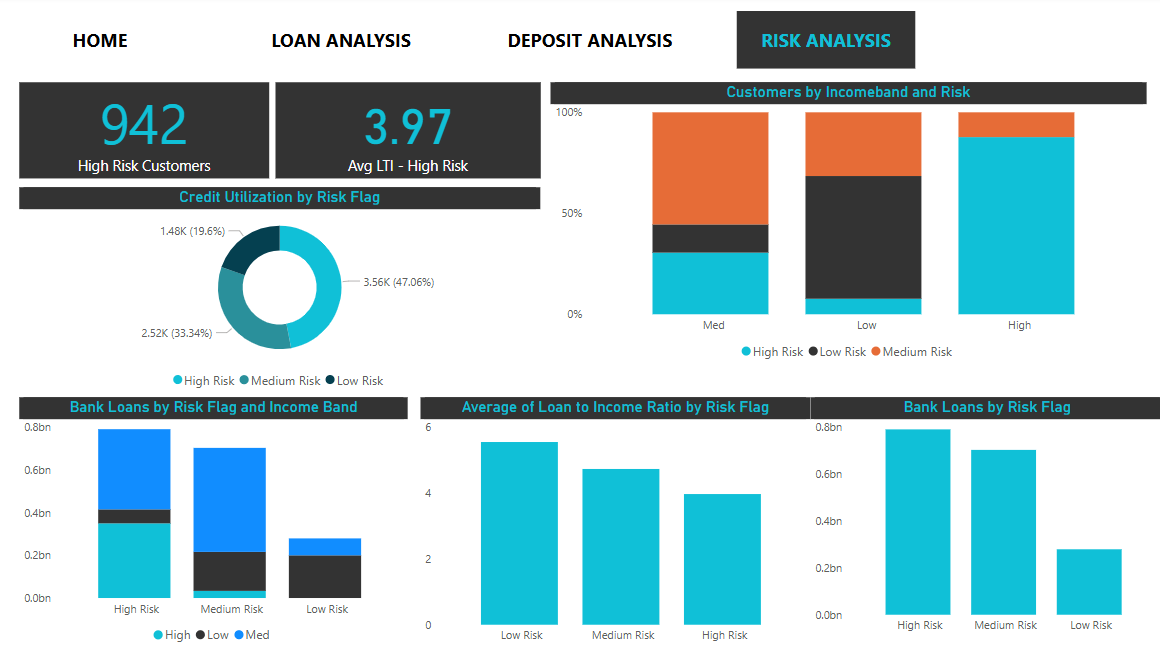

The dashboard page shown, as its layout file describes it:
{"tool":"powerbi","page":{"name":"Risk Analysis","canvas":[1280,720],"ordinal":3},"visuals":[{"type":"actionButton","title":"HOME","box":[551.6,16.5,196.2,63.1],"z":0,"group":"g1"},{"type":"columnChart","title":"Bank Loans by Risk Flag","fields":{"Category":["Clients - Banking.Risk Flag"],"Y":["Sum(Clients - Banking.Bank Loans)"]},"box":[891.9,440.5,388.3,269],"z":0},{"type":"actionButton","title":"HOME","box":[811,16.5,196.2,63.1],"z":1000,"group":"g1"},{"type":"donutChart","title":"Credit Utilization by Risk Flag","fields":{"Category":["Clients - Banking.Risk Flag"],"Y":["Avg(Clients - Banking.Credit Utilization)"]},"box":[23.3,209.9,572.2,230.5],"z":1000},{"type":"actionButton","title":"HOME","box":[13.7,16.5,196.2,63.1],"z":2000,"group":"g1"},{"type":"clusteredColumnChart","fields":{"Category":["Clients - Banking.Risk Flag"],"Y":["Avg(Clients - Banking.Loan to Income Ratio)"]},"box":[463.8,440.5,428.1,279.9],"z":2000},{"type":"actionButton","title":"HOME","box":[278.5,16.5,196.2,63.1],"z":3000,"group":"g1"},{"type":"card","title":"High Risk Customers","fields":{"Values":["Measure Table.High Risk Customers"]},"box":[23.3,94.7,274.4,105.7],"z":3000},{"type":"card","fields":{"Values":["Measure Table.Avg LTI - High Risk"]},"box":[304.6,94.7,290.9,105.7],"z":4000},{"type":"columnChart","title":"Bank Loans by Risk Flag and Income Band","fields":{"Category":["Clients - Banking.Risk Flag"],"Y":["Sum(Clients - Banking.Bank Loans)"],"Series":["Clients - Banking.Income Band"]},"box":[23.3,440.5,426.8,279.9],"z":5000},{"type":"hundredPercentStackedColumnChart","title":"Customers by Incomeband and Risk","fields":{"Category":["Clients - Banking.Income Band"],"Y":["CountNonNull(Clients - Banking.Client ID)"],"Series":["Clients - Banking.Risk Flag"]},"box":[606.5,94.7,654.5,314.2],"z":7000},{"type":"group","id":"g1","title":"Group 2","box":[13.7,16.5,993.5,63.1],"z":8001}]}

Visuals, with their boxes in screenshot pixels (x1, y1, x2, y2), scaled from the page's 1280x720 canvas onto the 1160x648 screenshot:
"HOME" actionButton: bbox=(500, 15, 678, 72)
"Bank Loans by Risk Flag" columnChart: bbox=(808, 396, 1159, 639)
"HOME" actionButton: bbox=(735, 15, 913, 72)
"Credit Utilization by Risk Flag" donutChart: bbox=(21, 189, 540, 396)
"HOME" actionButton: bbox=(12, 15, 190, 72)
clusteredColumnChart - Clients - Banking.Risk Flag x Avg(Clients - Banking.Loan to Income Ratio): bbox=(420, 396, 808, 647)
"HOME" actionButton: bbox=(252, 15, 430, 72)
"High Risk Customers" card: bbox=(21, 85, 270, 180)
card - Measure Table.Avg LTI - High Risk: bbox=(276, 85, 540, 180)
"Bank Loans by Risk Flag and Income Band" columnChart: bbox=(21, 396, 408, 647)
"Customers by Incomeband and Risk" hundredPercentStackedColumnChart: bbox=(550, 85, 1143, 368)
"Group 2" group: bbox=(12, 15, 913, 72)
